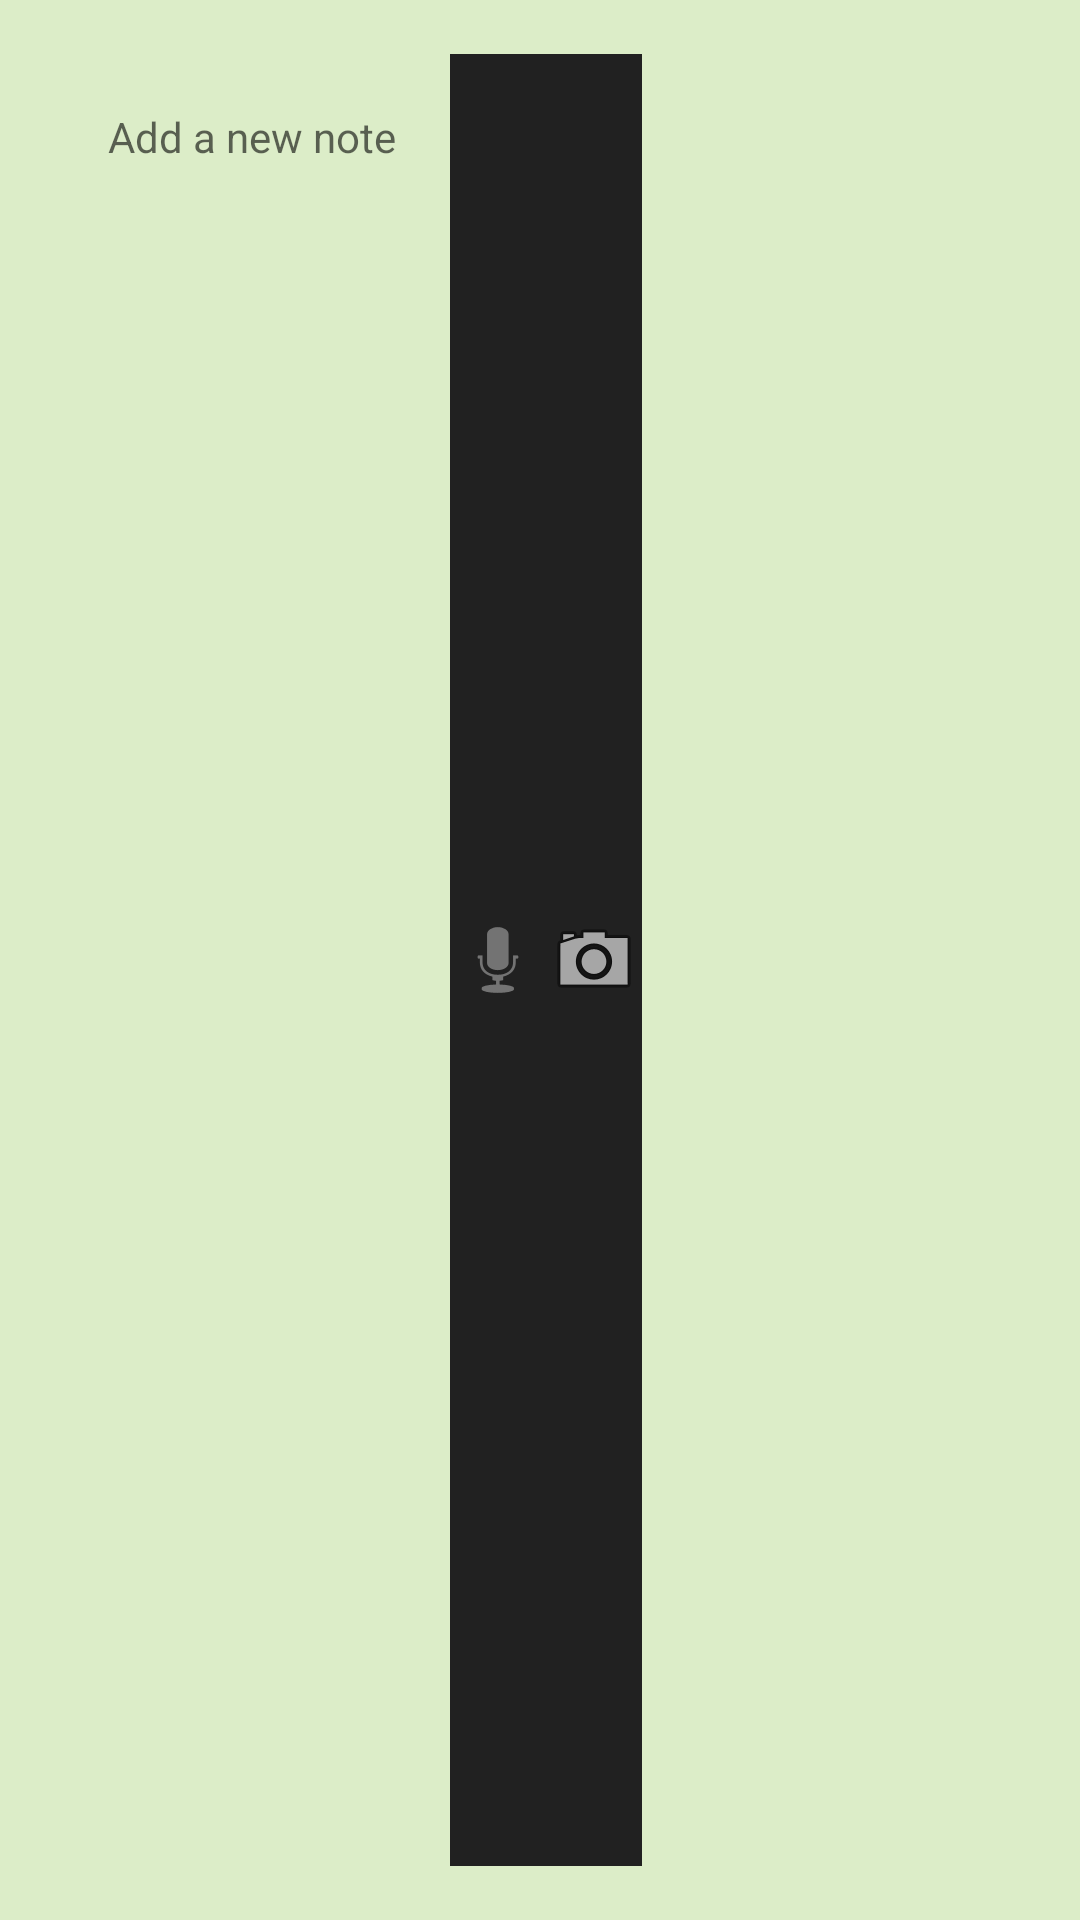

Screen size 1080px×1920px. Icon name, then its box in pixels as bbox(x1, y1, x2, y2):
camera: bbox(560, 932, 628, 985)
speak now: bbox(477, 927, 519, 993)
